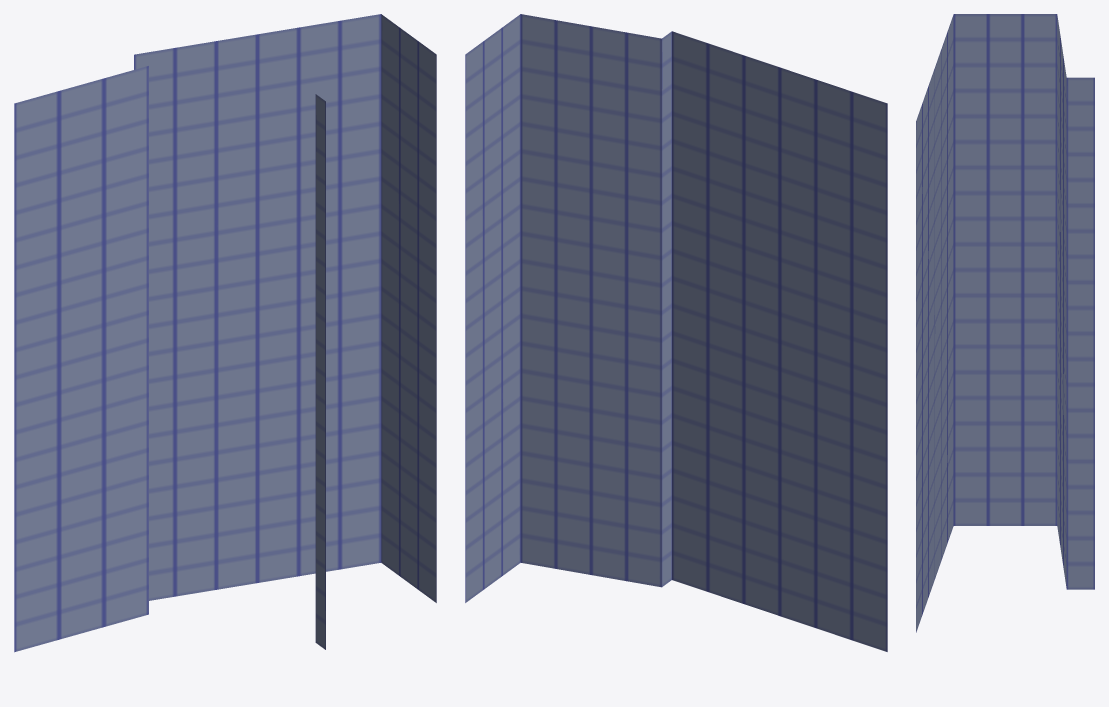
The model's file is testui5.gltf.
3 renders of one model, left to right at view 1: azimuth 30°, elevation 25°; view 2: azimuth 150°, elevation 25°; view 3: azimuth 270°, elevation 25°, orthographic. The views are drawn at different scales.
Bounding box in the file's own units: 42 × 60 × 19.
2 materials, 2 textured.
